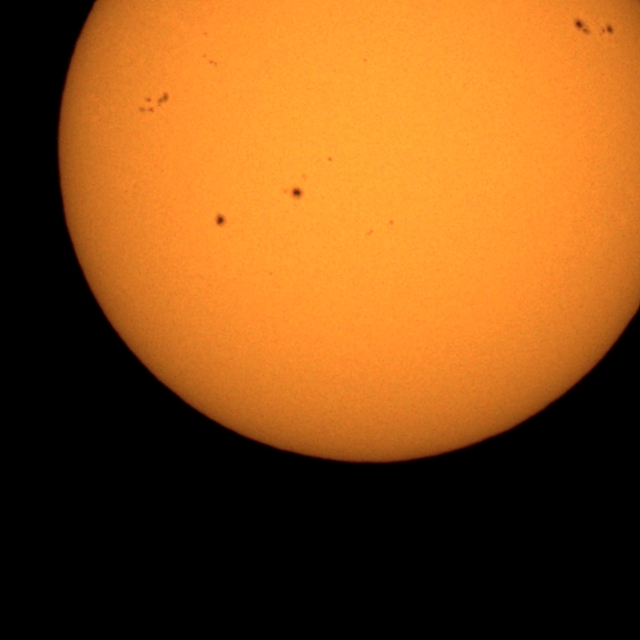sunspot: (571, 16, 615, 38), (138, 91, 171, 116), (573, 17, 592, 36), (284, 186, 303, 201), (598, 23, 614, 38), (213, 212, 228, 228), (202, 54, 218, 67), (365, 227, 374, 238), (388, 219, 395, 227), (202, 31, 209, 38), (326, 156, 333, 163), (362, 56, 368, 64)
